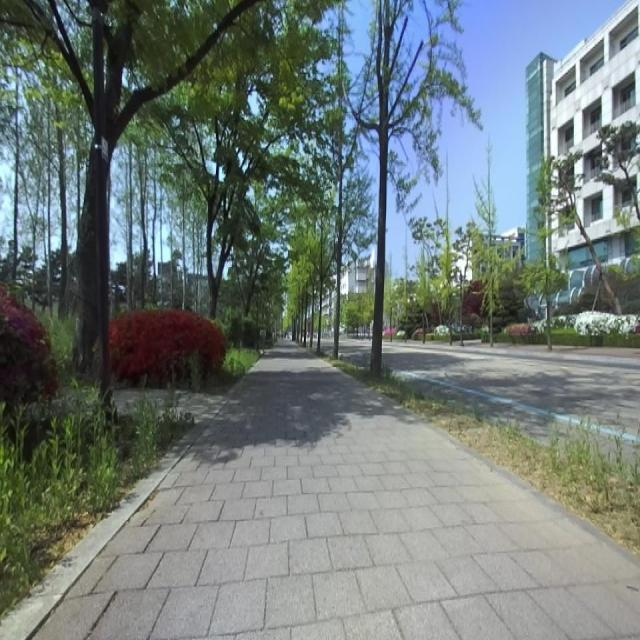sidewalk: (24, 342, 640, 640), (0, 398, 227, 640)
